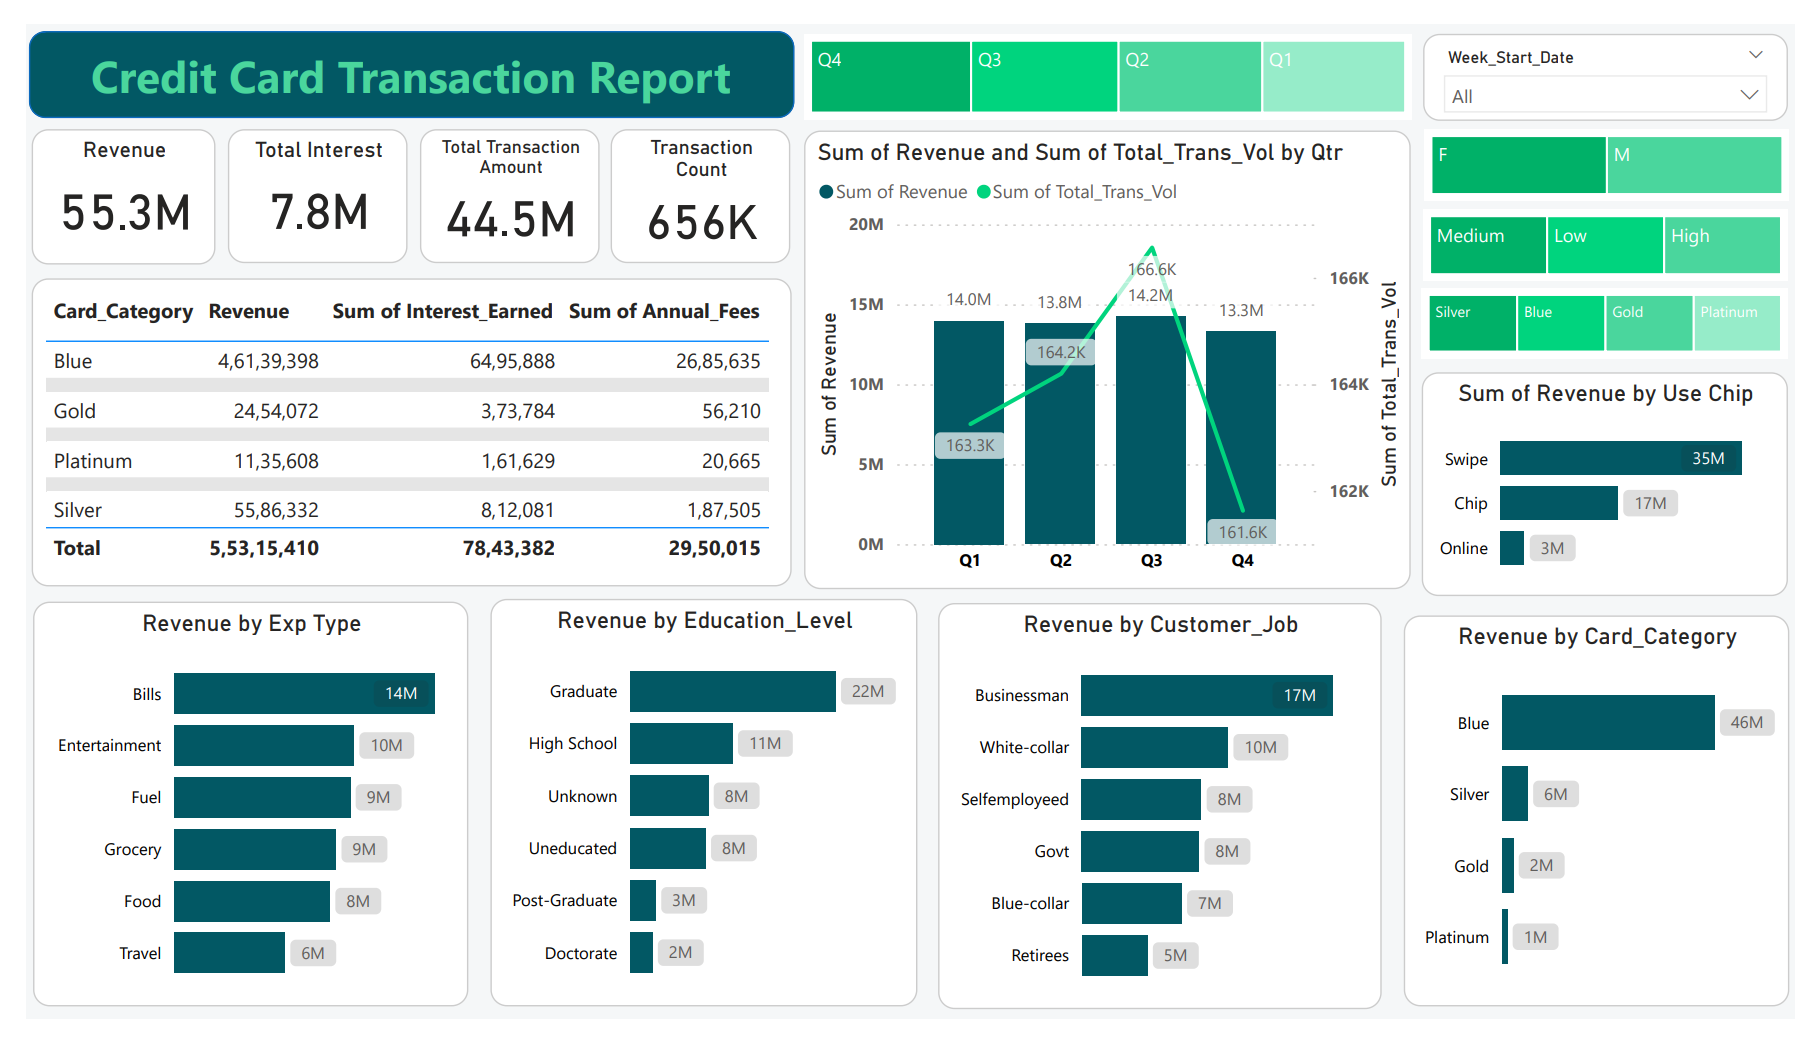

What the dashboard file says about the page in this screenshot:
{"tool":"powerbi","page":{"name":"Transaction Report ","canvas":[1280,720],"ordinal":0},"visuals":[{"type":"card","title":"Revenue","fields":{"Values":["Sum(credit_card.Revenue)"]},"box":[4.3,76.4,132.9,97.1],"z":0},{"type":"tableEx","fields":{"Values":["credit_card.Card_Category","Sum(credit_card.Revenue)","Sum(credit_card.Interest_Earned)","Sum(credit_card.Annual_Fees)"]},"box":[4.2,184.2,550,222.5],"z":1000},{"type":"lineStackedColumnComboChart","fields":{"Y2":["Sum(credit_card.Total_Trans_Vol)"],"Category":["credit_card.Qtr"],"Y":["Sum(credit_card.Revenue)"]},"box":[562.7,76.7,439.3,332],"z":2000},{"type":"treemap","fields":{"Group":["credit_card.Qtr"],"Values":["Avg(credit_card.Client_Num)"]},"box":[562.9,7.3,440.1,62],"z":3000},{"type":"barChart","title":"Revenue by Card_Category","fields":{"Category":["credit_card.Card_Category"],"Y":["Sum(credit_card.Revenue)"]},"box":[997.3,428,278.7,283.3],"z":4000},{"type":"barChart","title":"Revenue by Exp Type","fields":{"Category":["credit_card.Exp Type"],"Y":["Sum(credit_card.Revenue)"]},"box":[5,417.5,315,293.8],"z":5000},{"type":"slicer","fields":{"Values":["credit_card.Week_Start_Date"]},"box":[1011.4,7.1,263.6,62.9],"z":6000},{"type":"card","title":"Total Interest","fields":{"Values":["Sum(credit_card.Interest_Earned)"]},"box":[145.9,76.4,130,97],"z":7000},{"type":"card","title":"Total Transaction Amount","fields":{"Values":["Sum(credit_card.Total_Trans_Amt)"]},"box":[284.5,76.4,130,97],"z":8000},{"type":"card","title":"Transaction Count","fields":{"Values":["Sum(credit_card.Total_Trans_Vol)"]},"box":[423.1,76.4,130,97],"z":9000},{"type":"barChart","title":"Revenue by Education_Level","fields":{"Y":["Sum(credit_card.Revenue)"],"Category":["customer.Education_Level"]},"box":[336.2,416.2,308.8,295],"z":10000},{"type":"barChart","title":"Revenue by Customer_Job","fields":{"Y":["Sum(credit_card.Revenue)"],"Category":["customer.Customer_Job"]},"box":[660,418.8,321.2,293.8],"z":11000},{"type":"treemap","fields":{"Group":["customer.Gender"],"Values":["Avg(credit_card.Client_Num)"]},"box":[1011.9,75.7,263.8,52.3],"z":12000},{"type":"treemap","fields":{"Group":["customer.IncomeGroup"],"Values":["Avg(credit_card.Client_Num)"]},"box":[1010.8,133.6,263.8,52.3],"z":13000},{"type":"treemap","fields":{"Group":["credit_card.Card_Category"],"Values":["Avg(credit_card.Client_Num)"]},"box":[1009.7,191.5,264.9,50.1],"z":14000},{"type":"barChart","fields":{"Y":["Sum(credit_card.Revenue)"],"Category":["credit_card.Use Chip"]},"box":[1010,251.7,265,162.5],"z":15000},{"type":"shape","box":[2.3,5.4,553.8,63.1],"z":16000},{"type":"textbox","box":[42.2,10,490,57.8],"z":17000}]}

Visuals, with their boxes in screenshot pixels (x1, y1, x2, y2), scaled from the page's 1280x720 canvas onto the 1819x1037 screenshot:
"Revenue" card: 6 110 195 250
tableEx - credit_card.Card_Category x Sum(credit_card.Revenue): 6 265 788 586
lineStackedColumnComboChart - Sum(credit_card.Total_Trans_Vol) x credit_card.Qtr: 800 110 1424 589
treemap - credit_card.Qtr x Avg(credit_card.Client_Num): 800 11 1425 100
"Revenue by Card_Category" barChart: 1417 616 1813 1024
"Revenue by Exp Type" barChart: 7 601 455 1024
slicer - credit_card.Week_Start_Date: 1437 10 1812 101
"Total Interest" card: 207 110 392 250
"Total Transaction Amount" card: 404 110 589 250
"Transaction Count" card: 601 110 786 250
"Revenue by Education_Level" barChart: 478 599 917 1024
"Revenue by Customer_Job" barChart: 938 603 1394 1026
treemap - customer.Gender x Avg(credit_card.Client_Num): 1438 109 1813 184
treemap - customer.IncomeGroup x Avg(credit_card.Client_Num): 1436 192 1811 268
treemap - credit_card.Card_Category x Avg(credit_card.Client_Num): 1435 276 1811 348
barChart - Sum(credit_card.Revenue) x credit_card.Use Chip: 1435 363 1812 597
shape: 3 8 790 99
textbox: 60 14 756 98
